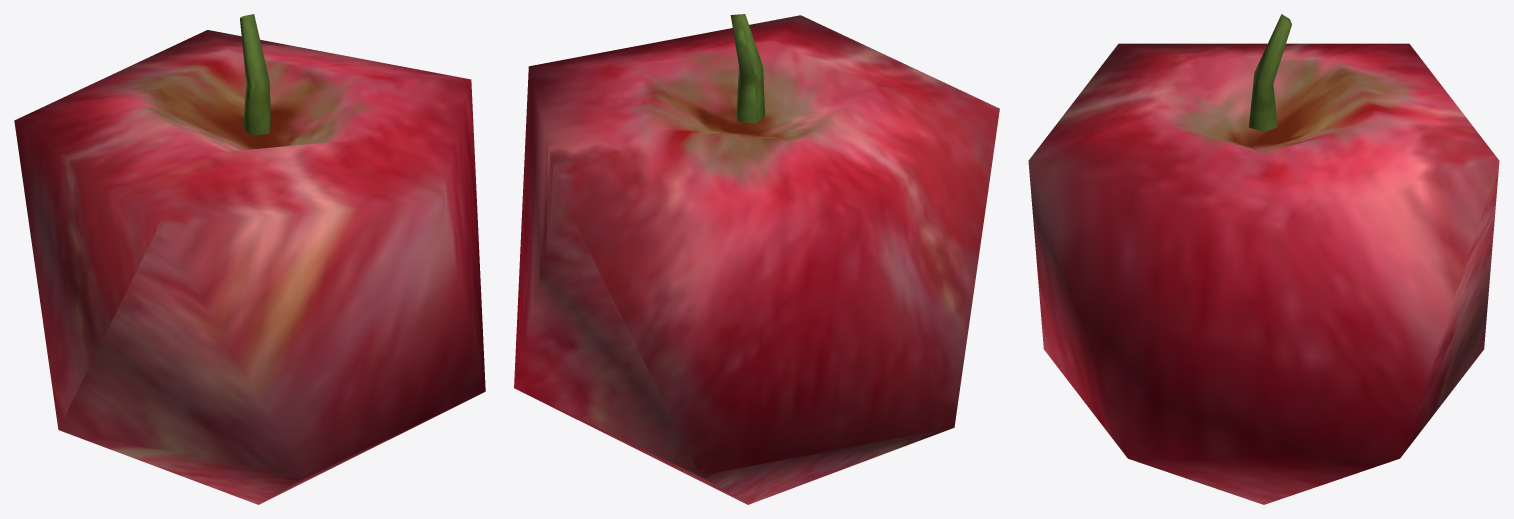
The model's file is fruit-apple.glb.
The picture shows the model from 3 angles, left to right: view 1: azimuth 30°, elevation 25°; view 2: azimuth 150°, elevation 25°; view 3: azimuth 270°, elevation 25°; orthographic projection. The views are drawn at different scales.
Parts seen in each view (by area): view 1: fruit-apple; view 2: fruit-apple; view 3: fruit-apple.
Part boxes in pixels (x1,y1,x2,y2): fruit-apple: (14, 14, 485, 504); fruit-apple: (514, 14, 999, 504); fruit-apple: (1028, 14, 1499, 504).
Bounding box in the file's own units: 0.1189 × 0.1332 × 0.1165.
Materials: 1 (1 with a texture image).
